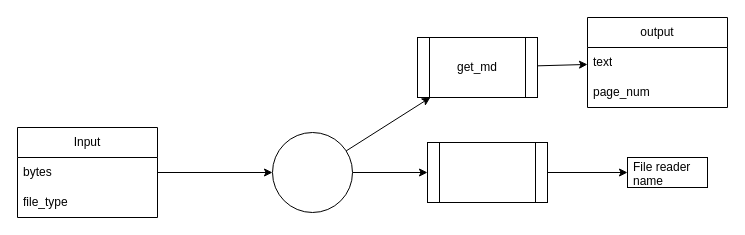
This 745x235 diagram has some shape labels left out. Here are the shapes that lost their labels. From the top down, the centre of each, then its label:
At point (312, 172): "FileReader".
At point (487, 172): "get_name".
